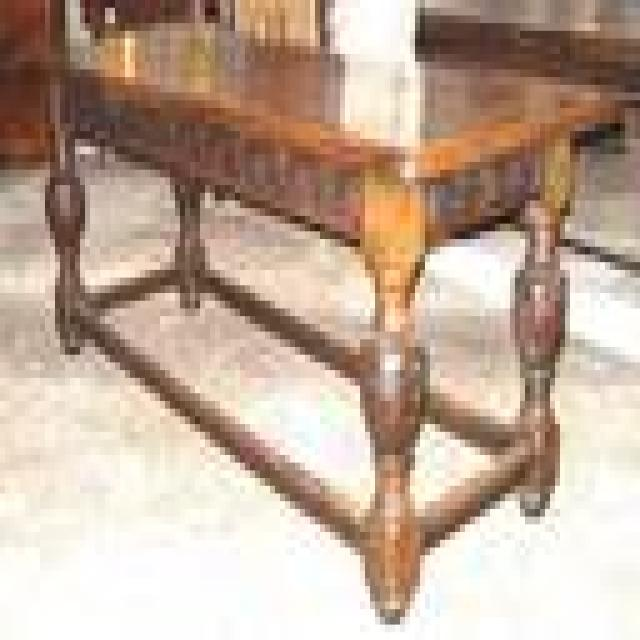table: (19, 16, 624, 630)
